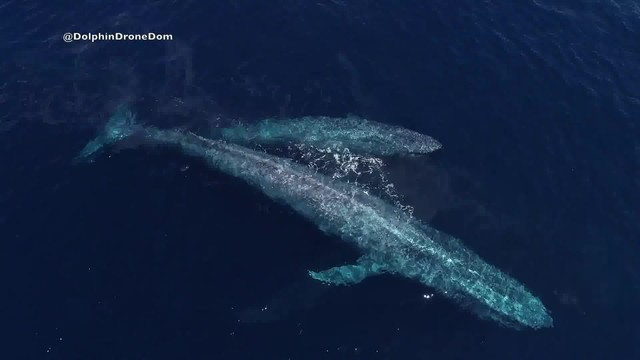whale: (73, 92, 555, 337), (139, 106, 450, 163)
